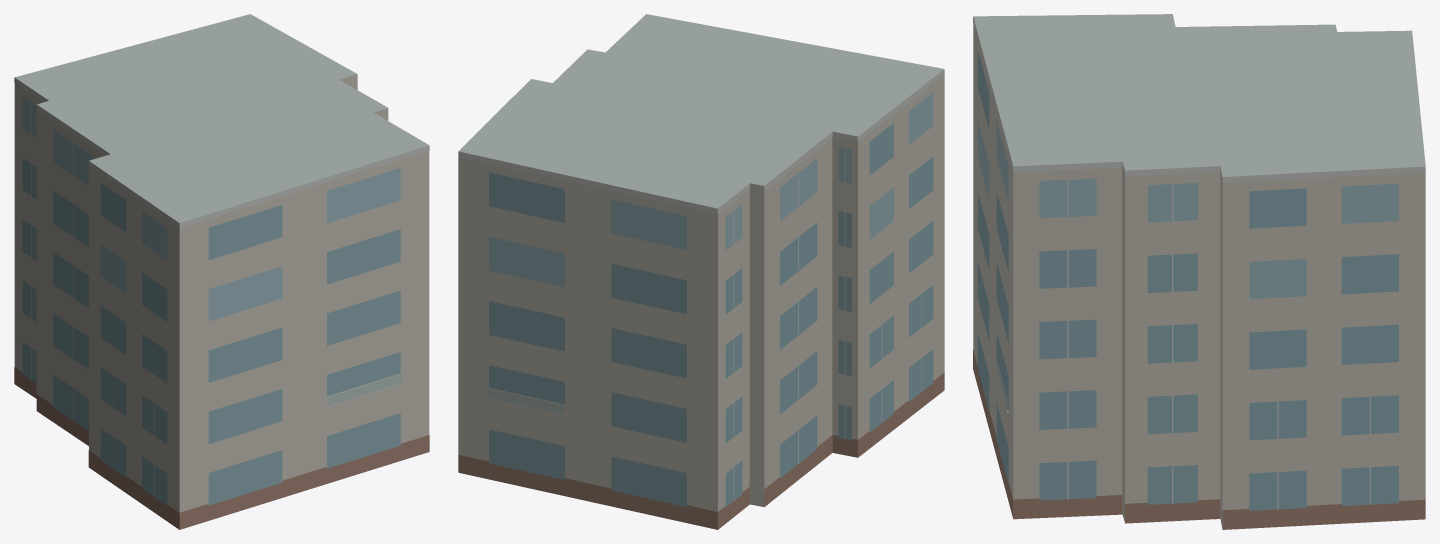
Rendered from survey-upis-32480422.glb.
The picture shows the model from 3 angles, left to right: view 1: azimuth 30°, elevation 25°; view 2: azimuth 150°, elevation 25°; view 3: azimuth 270°, elevation 25°; orthographic projection. The views are drawn at different scales.
Parts seen in each view (by area): view 1: survey-upis-32480422.tmp; view 2: survey-upis-32480422.tmp; view 3: survey-upis-32480422.tmp.
Part boxes in pixels (x1,y1,x2,y2): survey-upis-32480422.tmp: [14, 14, 429, 529]; survey-upis-32480422.tmp: [458, 14, 944, 529]; survey-upis-32480422.tmp: [973, 14, 1425, 529].
Size of the model in its own units: 14.33 by 14.45 by 16.81.
